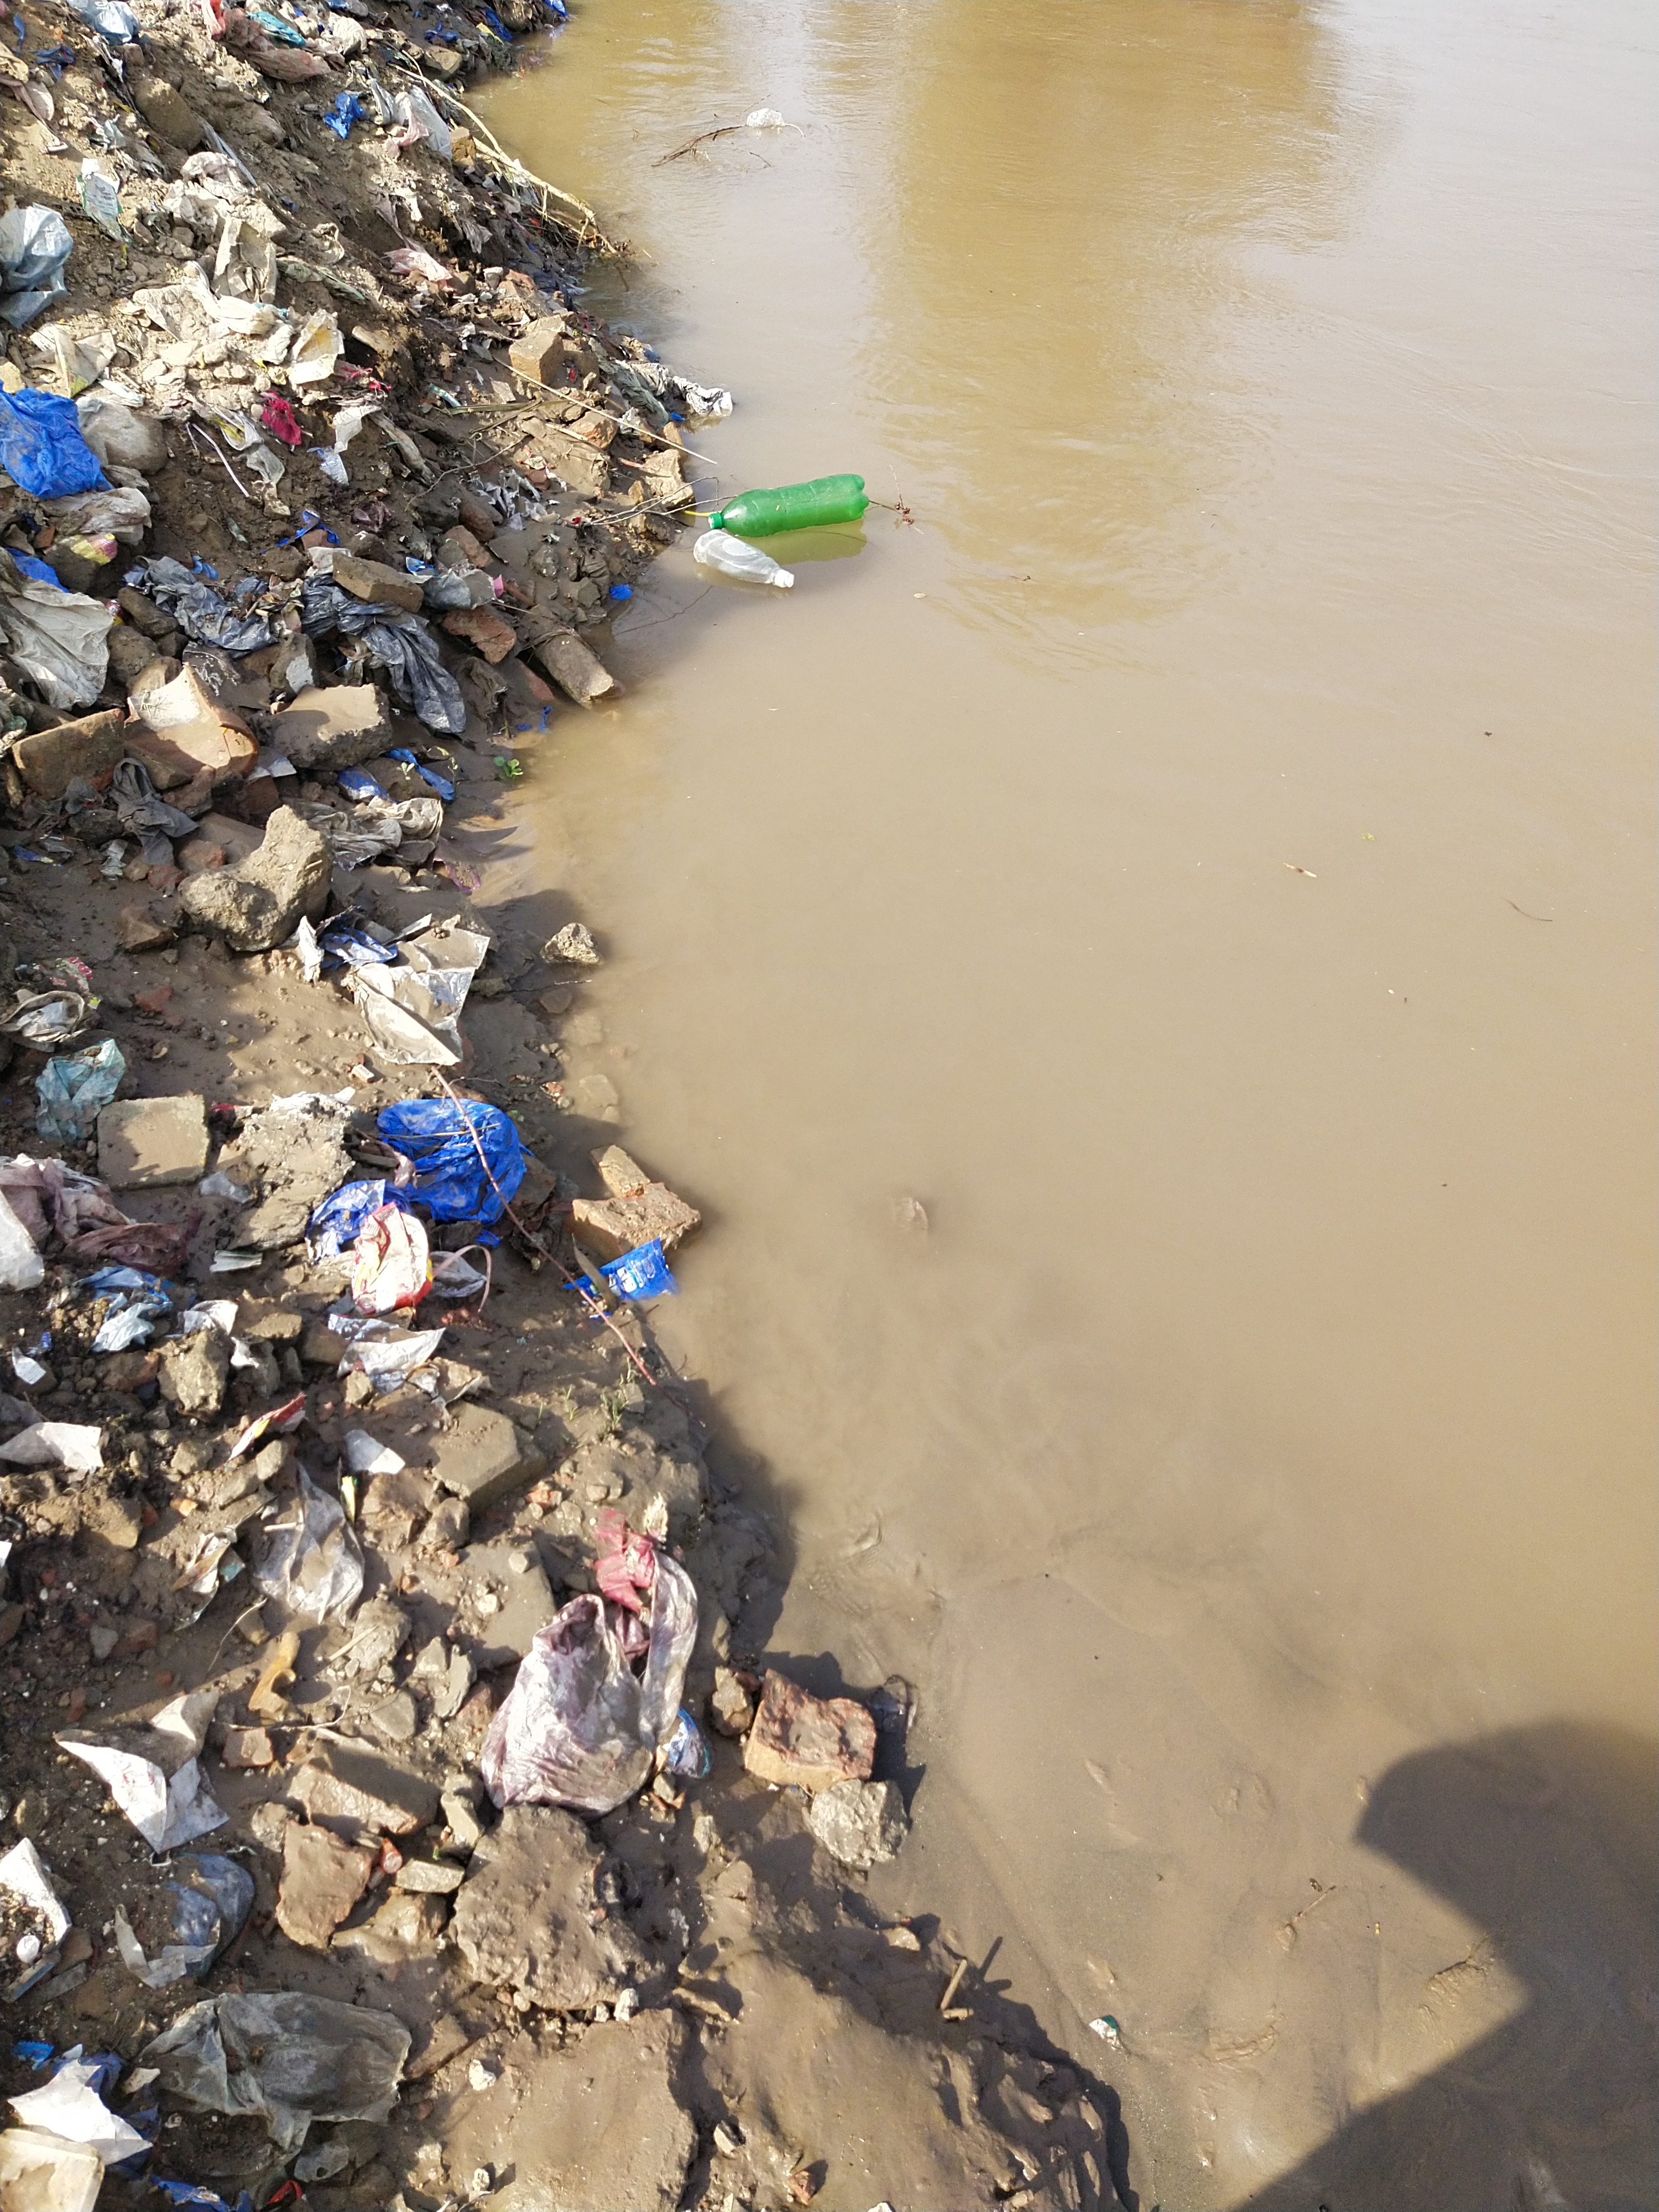Plastic Bottle: (709, 474, 870, 536), (694, 529, 793, 589)
